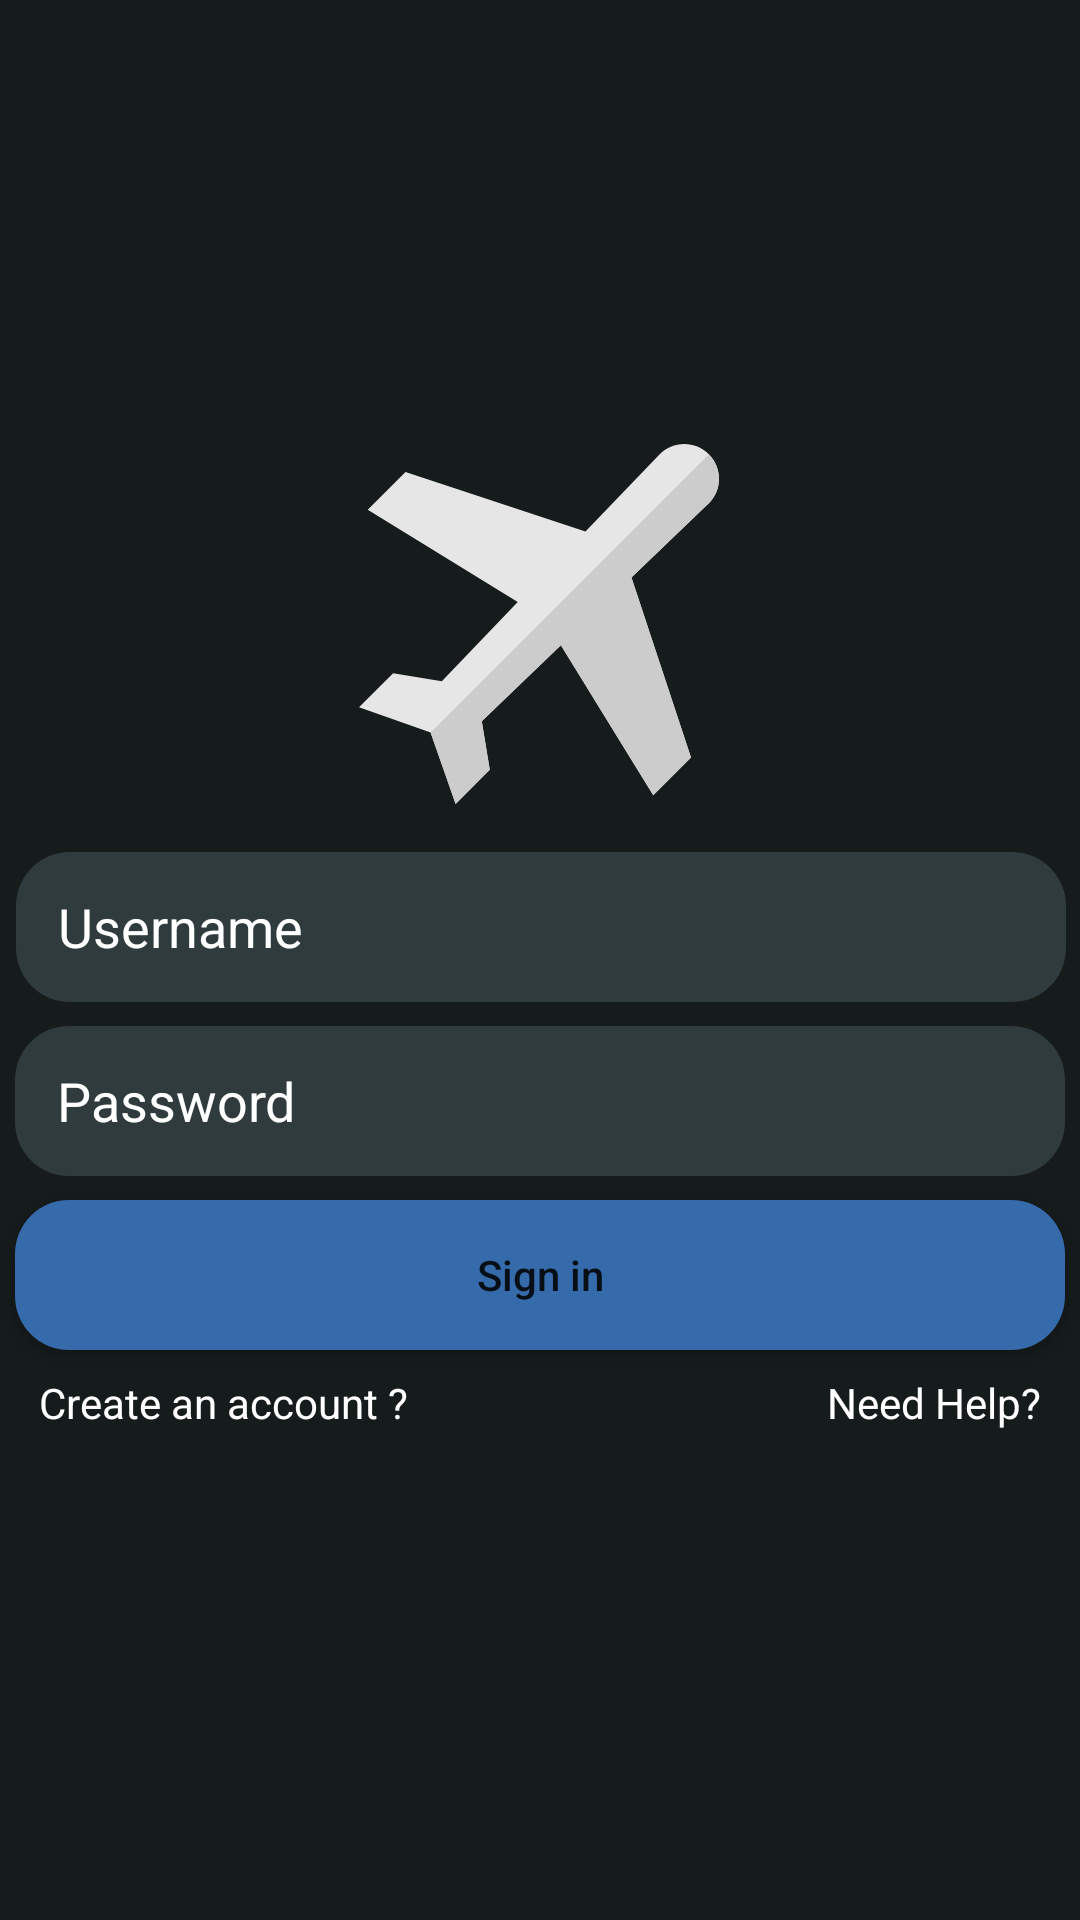

Locate icon controls on the screen. Image size 1080x1920, boxes as (x1, y1, x2, y2).
plane: (359, 444, 719, 804)
